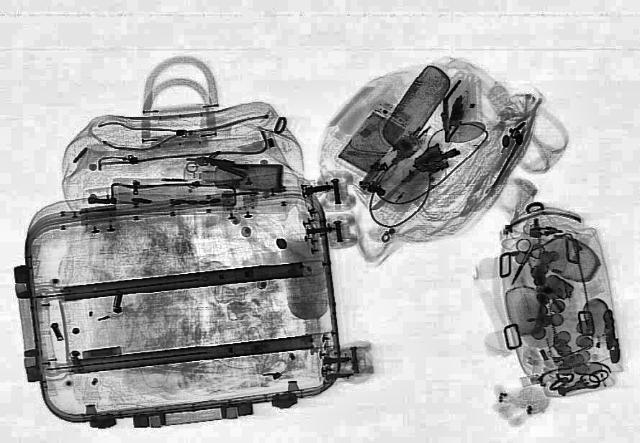Scissors: (494, 236, 550, 288)
